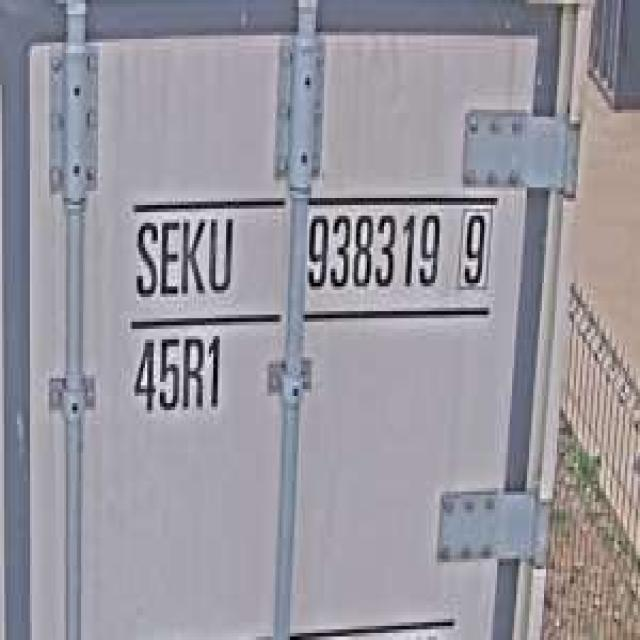dv: (452, 198, 495, 293)
owner: (128, 209, 239, 304)
serial: (303, 202, 442, 300)
size: (126, 325, 226, 421)
